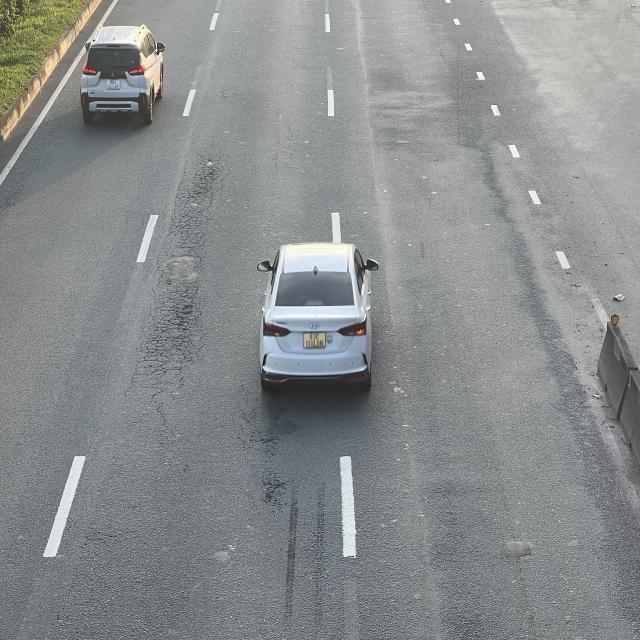car: (261, 245, 381, 396), (78, 22, 164, 124)
